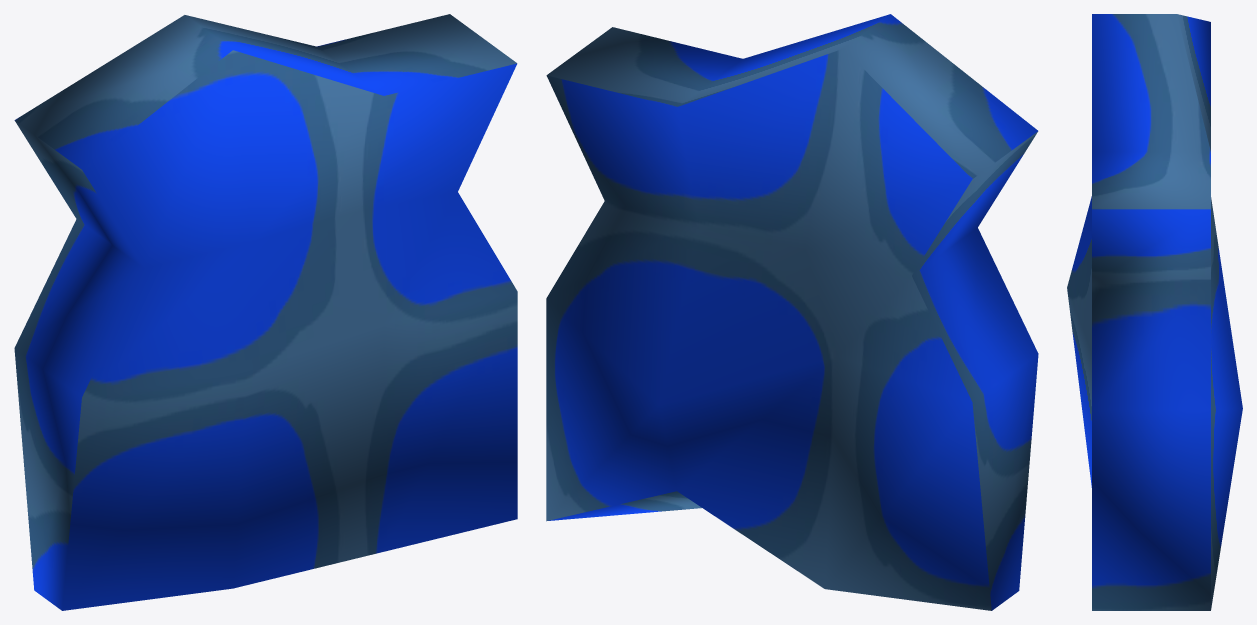
The model's file is item-bark-chip-easter.glb.
3 views of the same model, side by side, from view 1: azimuth 30°, elevation 25°; view 2: azimuth 150°, elevation 25°; view 3: azimuth 270°, elevation 25° (orthographic). The views are drawn at different scales.
Size of the model in its own units: 2 by 2.36 by 0.7938.
Materials: 1 (1 with a texture image).
